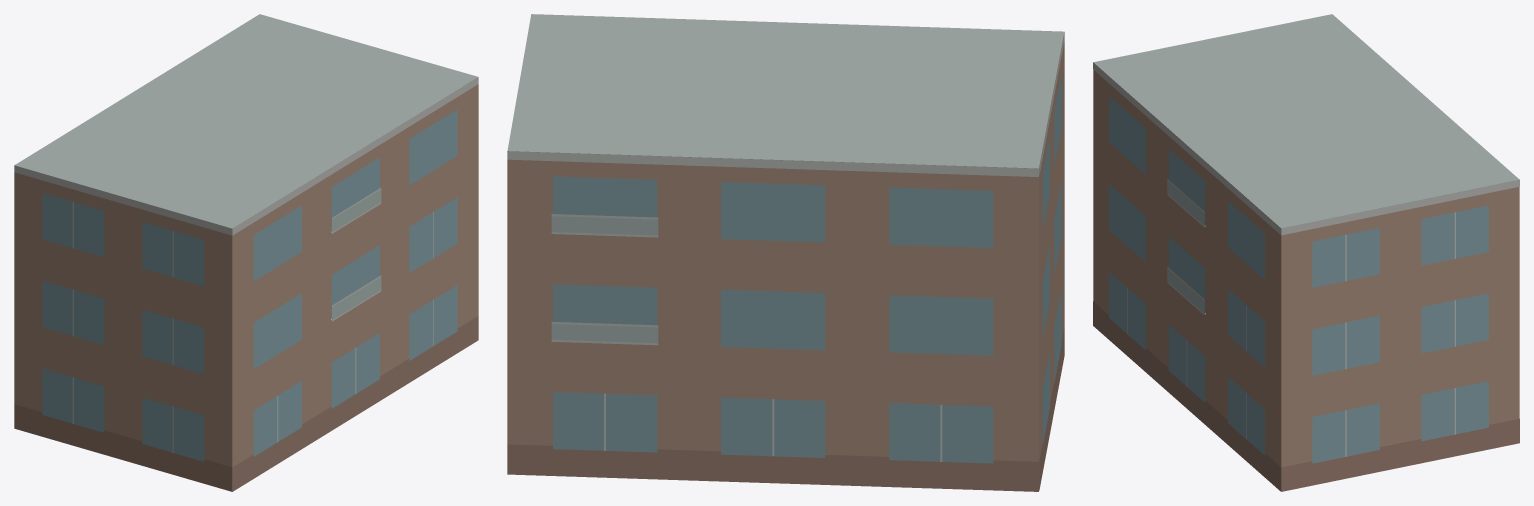
File: survey-upis-32698032.glb
3 renders of one model, left to right at view 1: azimuth 30°, elevation 25°; view 2: azimuth 150°, elevation 25°; view 3: azimuth 270°, elevation 25°, orthographic. The views are drawn at different scales.
Visible parts, largest first — view 1: survey-upis-32698032.tmp; view 2: survey-upis-32698032.tmp; view 3: survey-upis-32698032.tmp.
Part boxes in pixels (x1,y1,x2,y2): survey-upis-32698032.tmp: (14,14,478,491); survey-upis-32698032.tmp: (507,14,1064,491); survey-upis-32698032.tmp: (1093,14,1519,491).
Bounding box in the file's own units: 15.97 × 9.15 × 13.44.
